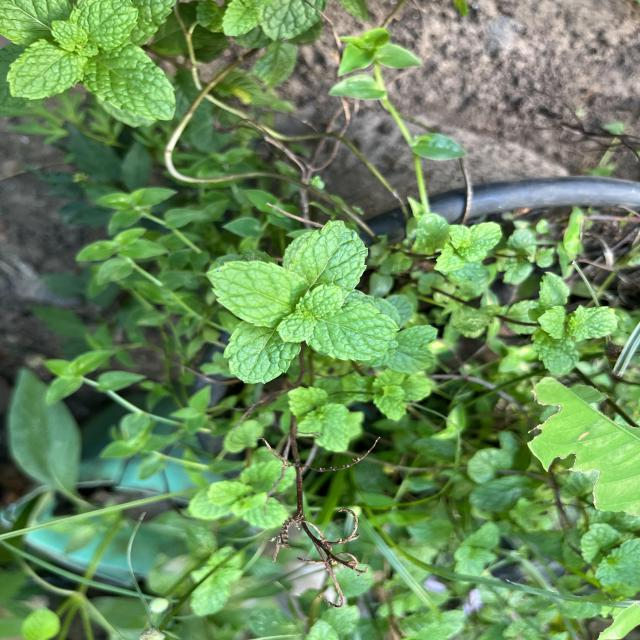Mentha spicata: (204, 259, 312, 328), (288, 218, 369, 300), (306, 302, 402, 362), (222, 320, 302, 385)
